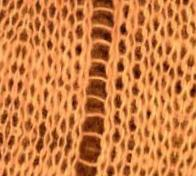slub: (75, 1, 114, 176)
